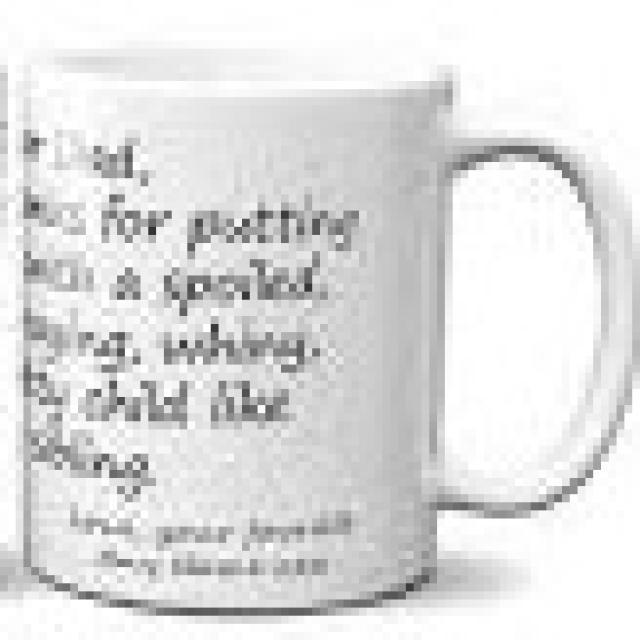taza: (3, 6, 638, 614)
